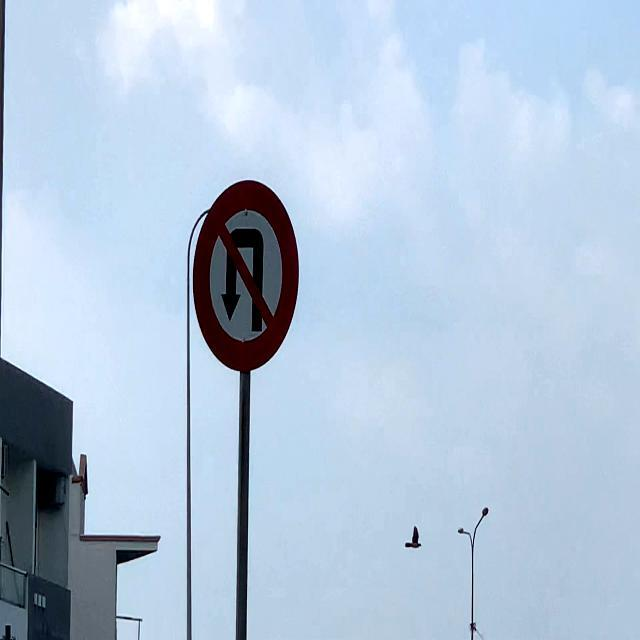P-124a1: (190, 178, 300, 373)
